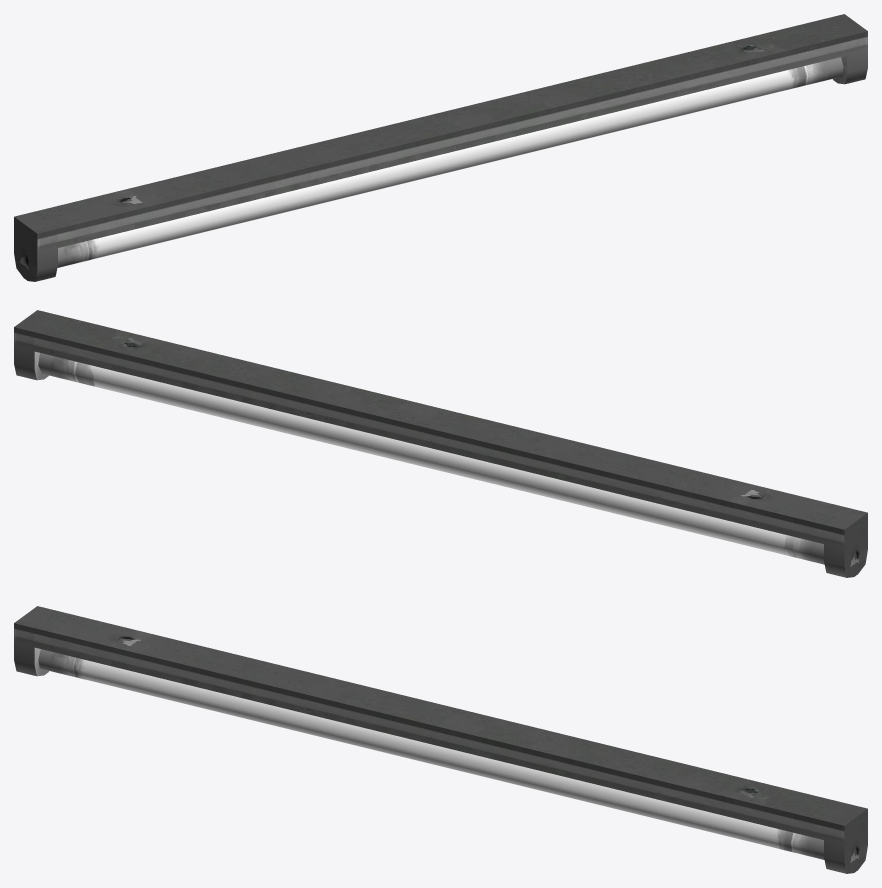
3 renders of one model, top to bottom at view 1: azimuth 30°, elevation 25°; view 2: azimuth 150°, elevation 25°; view 3: azimuth 330°, elevation 25°, orthographic.
Parts seen in each view (by area): view 1: body0_model0_lod0_mesh0; view 2: body0_model0_lod0_mesh0; view 3: body0_model0_lod0_mesh0.
Part boxes in pixels (bbox=[...]): body0_model0_lod0_mesh0: bbox=[14, 14, 867, 281]; body0_model0_lod0_mesh0: bbox=[14, 310, 867, 577]; body0_model0_lod0_mesh0: bbox=[14, 606, 867, 873].
Size of the model in its own units: 64 by 4 by 3.13.
Materials: 1 (1 with a texture image).
